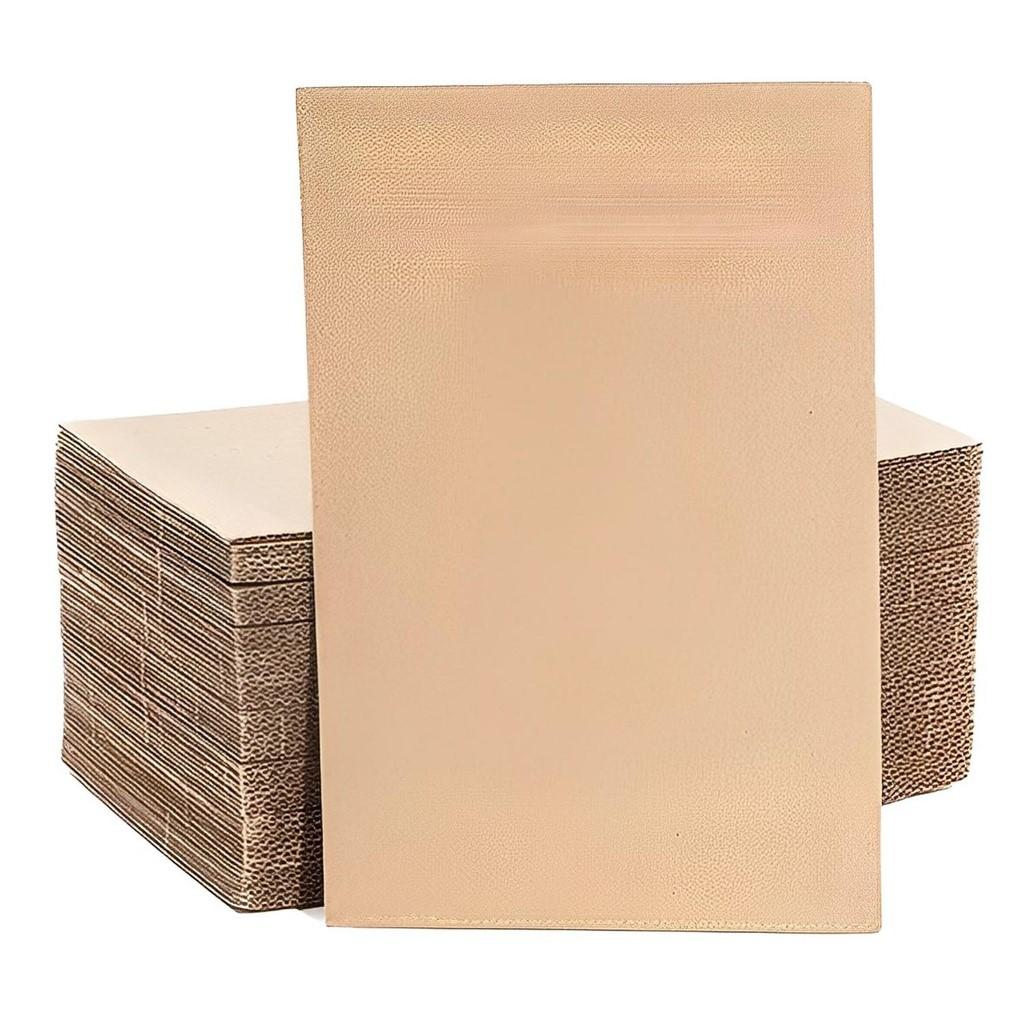plastic: (298, 79, 884, 939), (48, 402, 327, 919), (878, 401, 982, 802)
